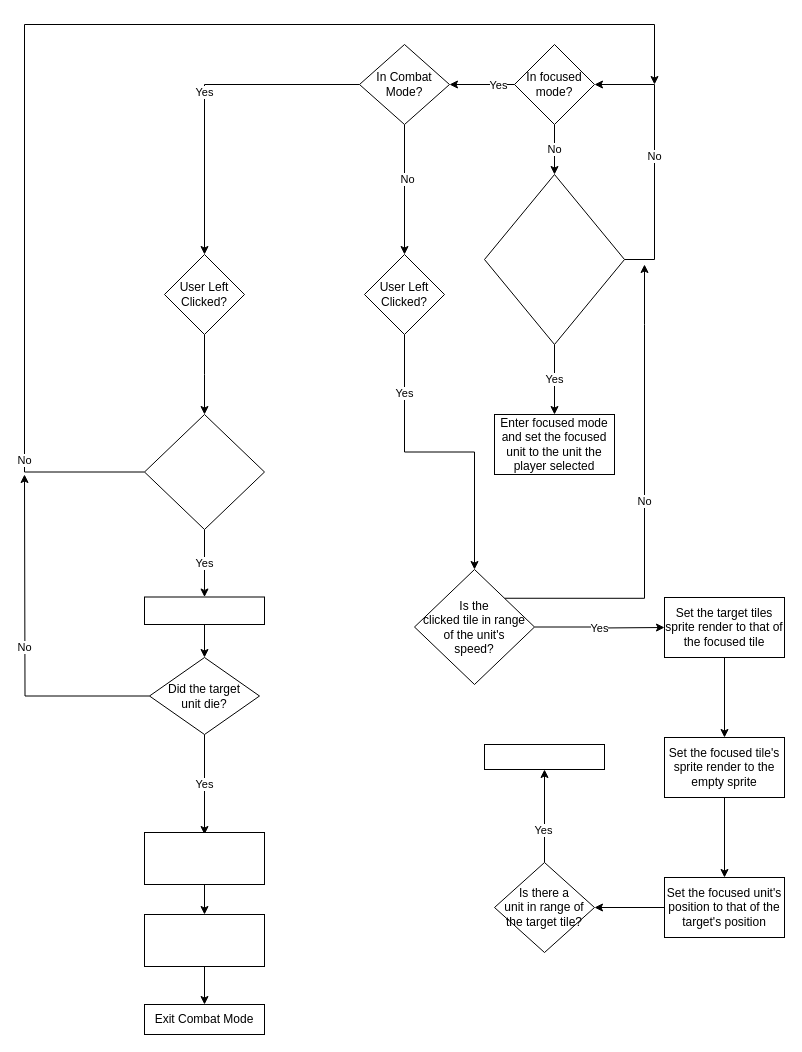
Some shapes in this 802 by 1052 pixel diagram are drawn without their labels. The shapes that lost their labels are listed below. From the top down, each one's centre as x and y in pixels, then its label:
point 554,259: User Pressed Left Mouse button and mouse is atop a unit?
point 204,472: Is the clicked tile in range and a unit?
point 204,610: Attack the target unit
point 544,757: Enter Combat Mode
point 204,858: Remove the target unit from the world using entities.remove
point 204,940: Set the target unit's sprite render to empty sprite
